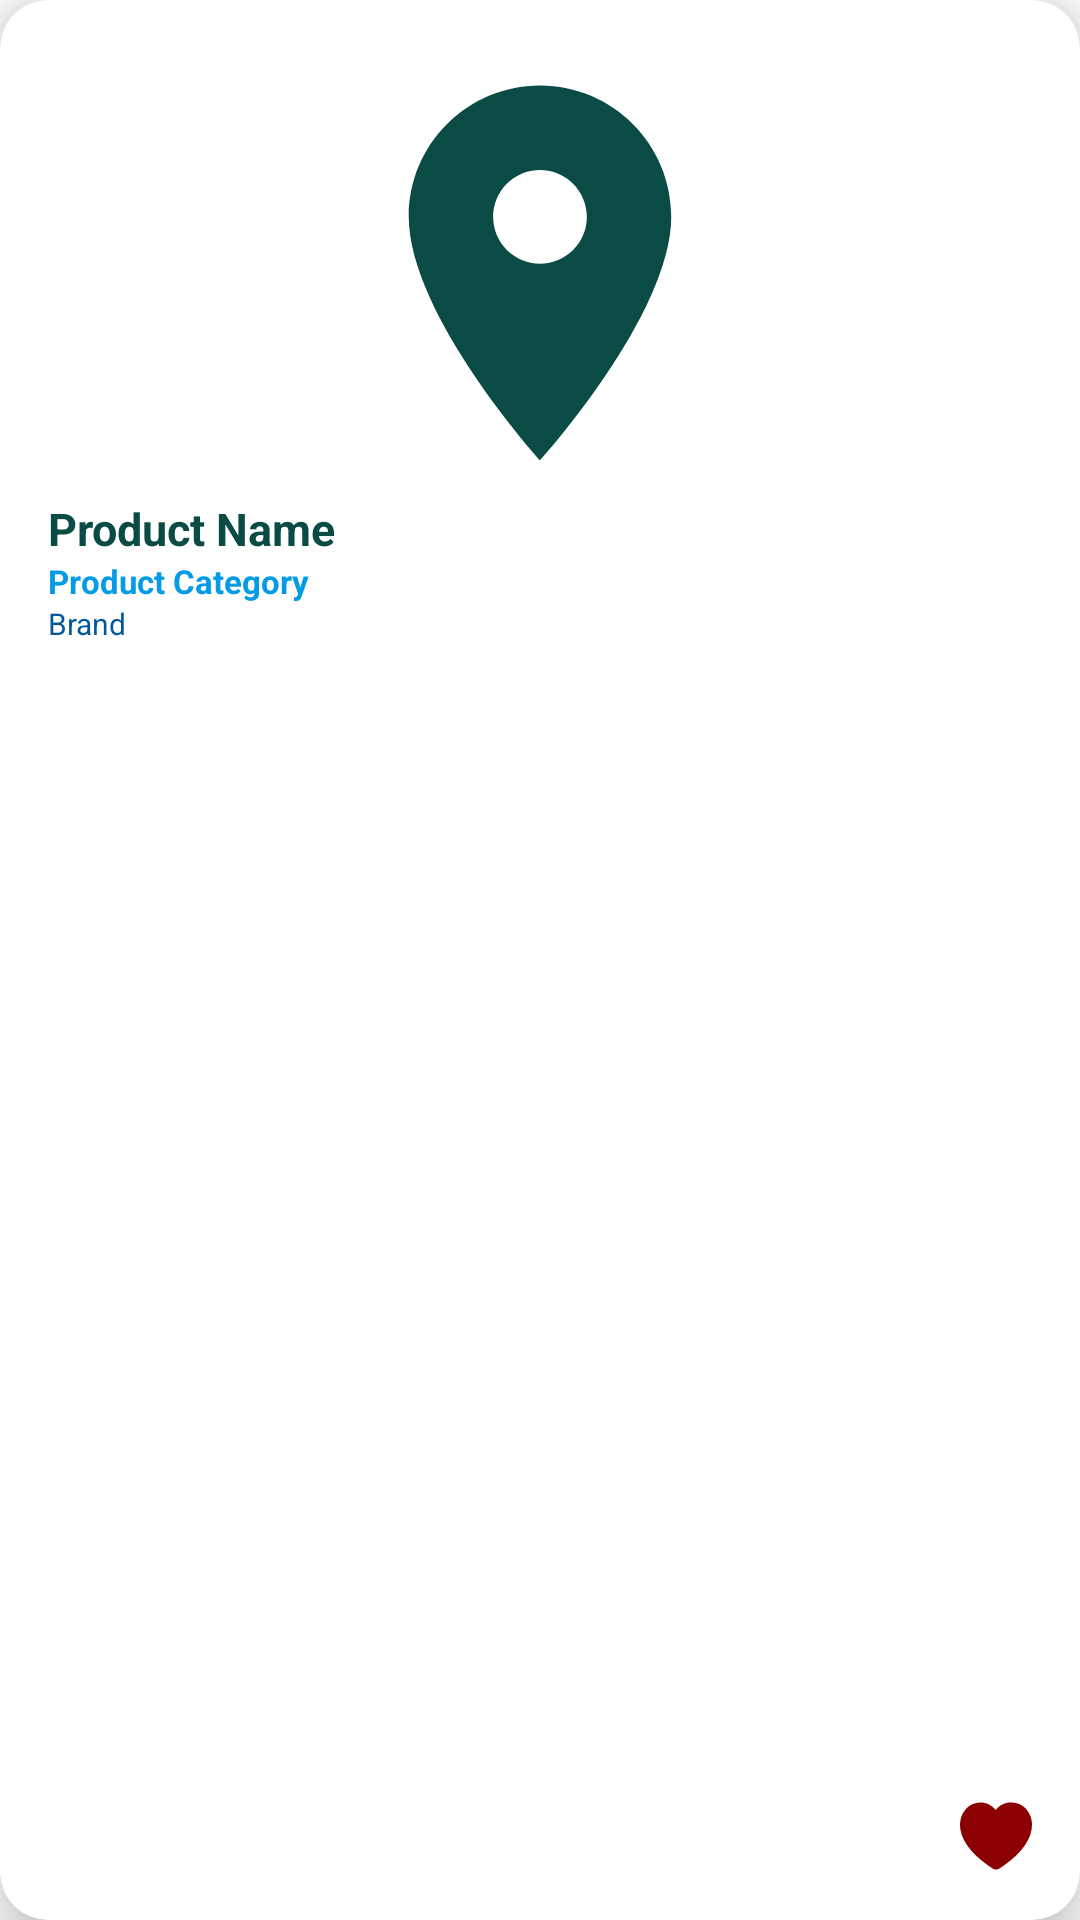

Named icons in this screenshot (1080w x 1920h) and their bounding boxes, (x1, y1, x2, y2):
heart: (960, 1802, 1032, 1870)
